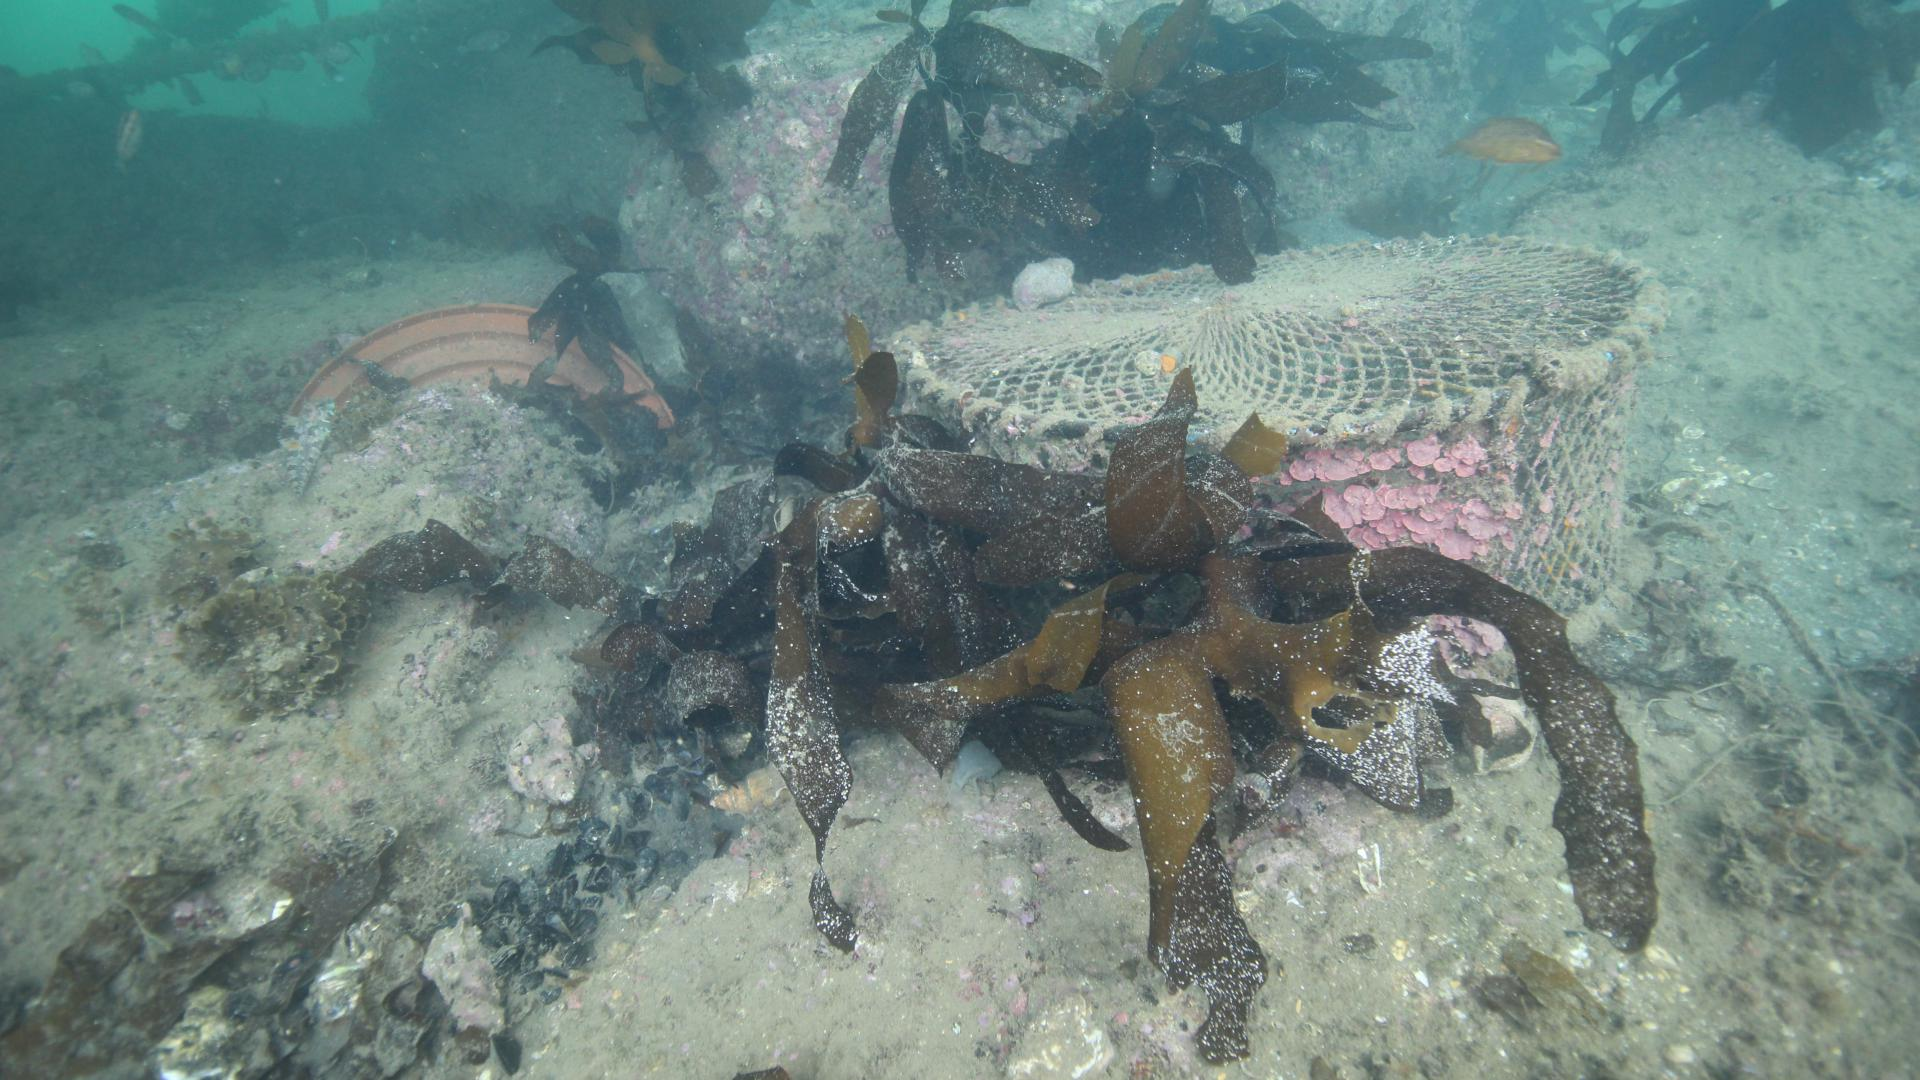circular fish trap: (876, 227, 1676, 655)
